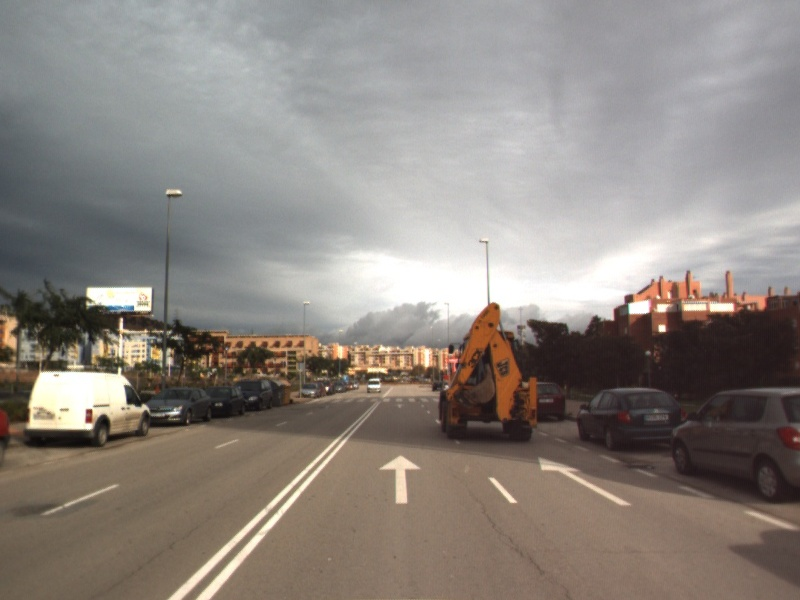STRAIGHT: (536, 454, 634, 507), (377, 453, 423, 506)
